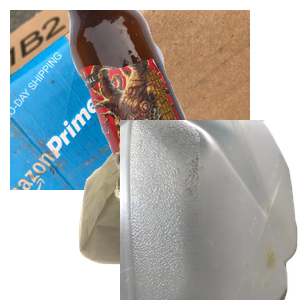cardboard: (10, 10, 250, 190)
glass: (65, 10, 300, 190)
plastic: (120, 120, 300, 300)
trash: (76, 124, 287, 300)
